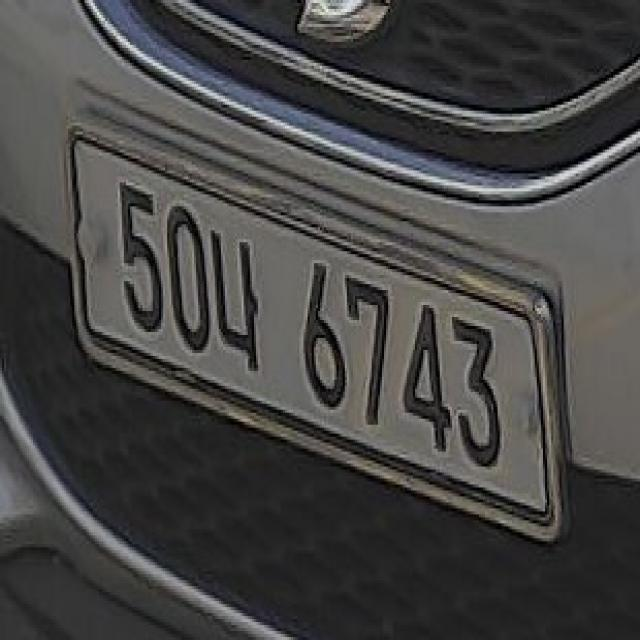0: (170, 202, 208, 349)
3: (452, 314, 502, 466)
4: (402, 300, 452, 456)
5: (116, 174, 166, 341)
6: (296, 253, 348, 421)
7: (347, 267, 392, 437)
license_plate: (69, 128, 565, 543)
na: (212, 224, 264, 380)
